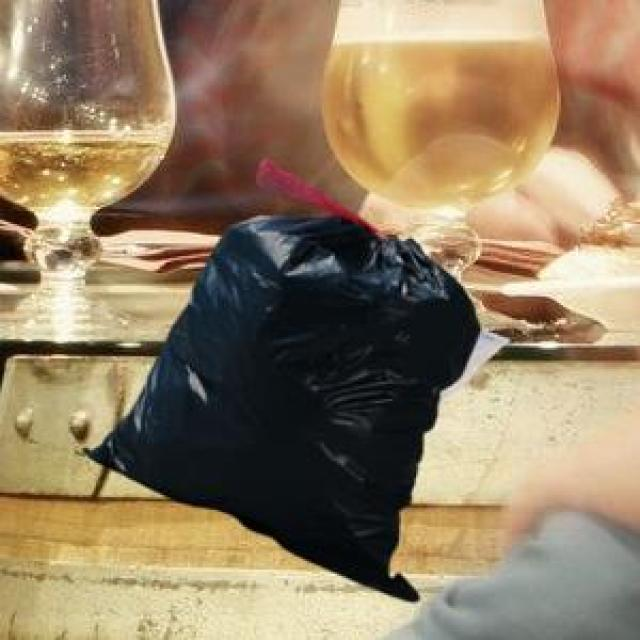miscellaneous trash: (79, 156, 476, 597)
